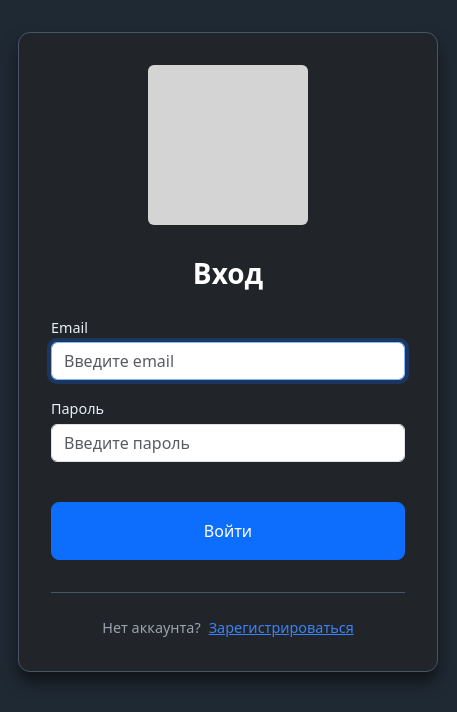
Scenario: показывает ошибку при неудачной авторизации
Type "test@example.com" into the field with placeholder "Введите email" at x=228, y=362, box [51, 342, 405, 380]
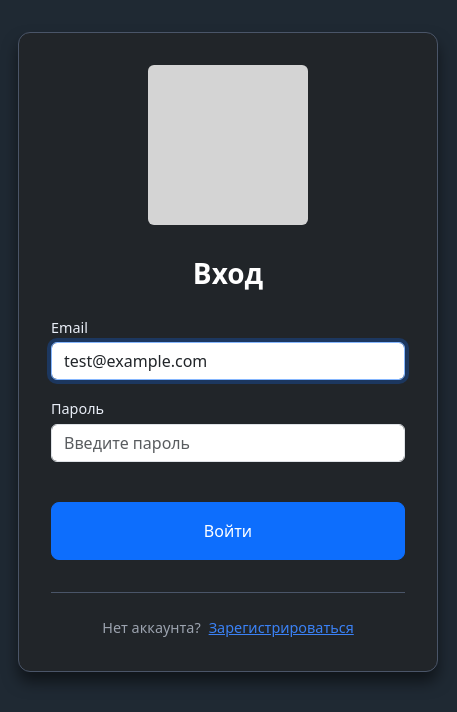
Type "wrongpassword" into the password field with placeholder "Введите пароль" at x=228, y=443, box [51, 424, 405, 462]
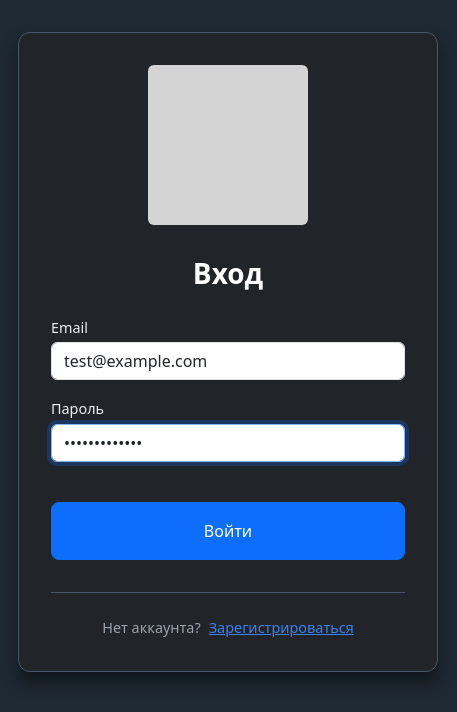
Click the button "Войти" at x=228, y=531, box [51, 502, 405, 560]
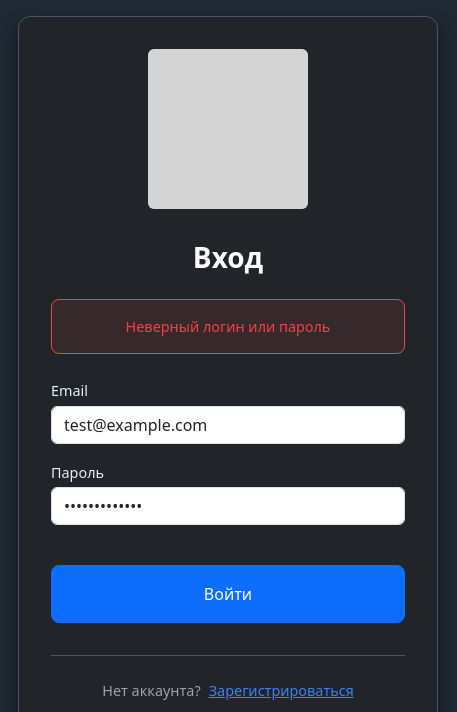
Check: the text "Неверный логин или пароль" is shown, box [51, 299, 405, 354]
